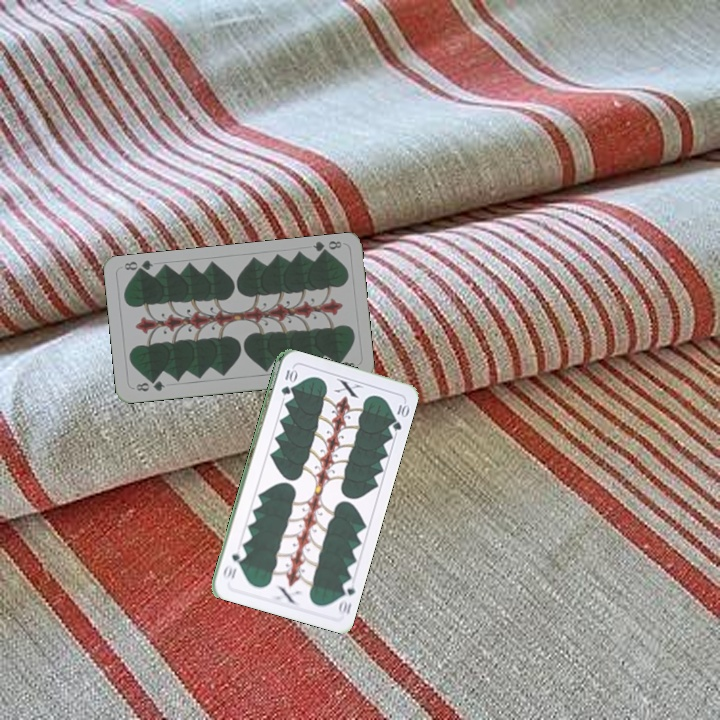G10: (334, 576, 358, 618), (277, 365, 296, 398)
G8: (309, 237, 344, 258), (132, 376, 167, 394)
